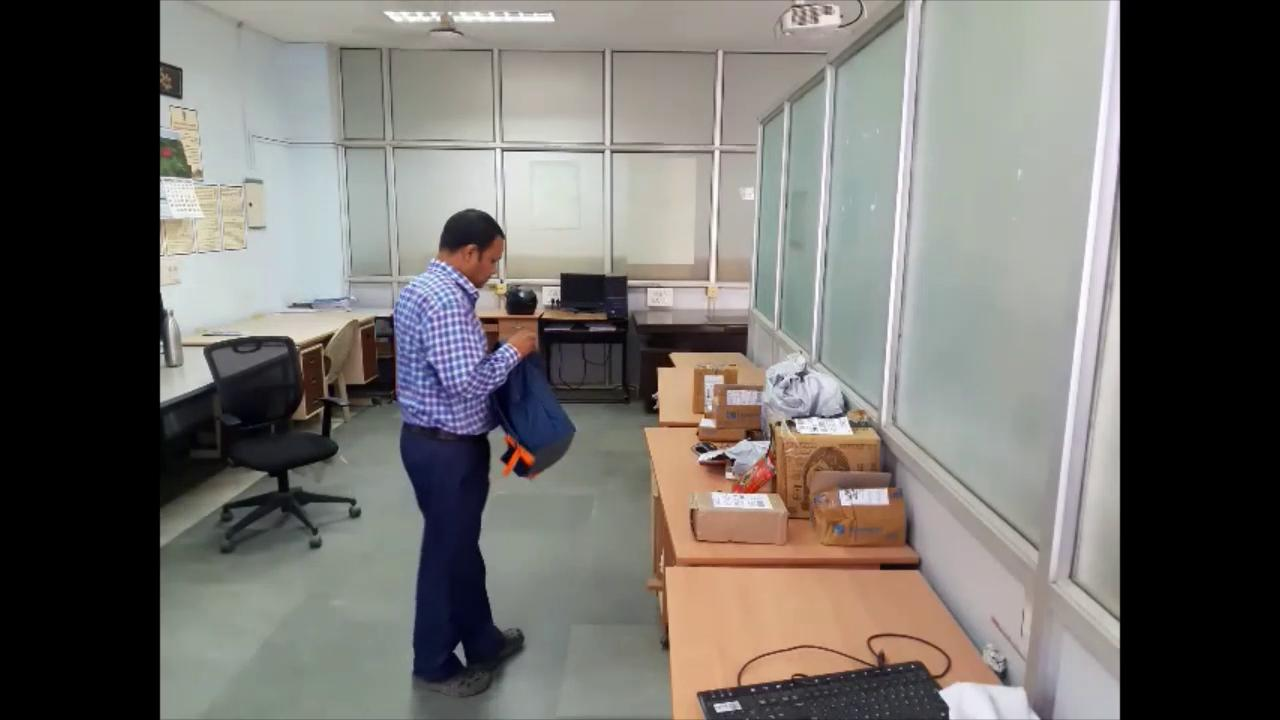shoplifting: (381, 189, 585, 712)
